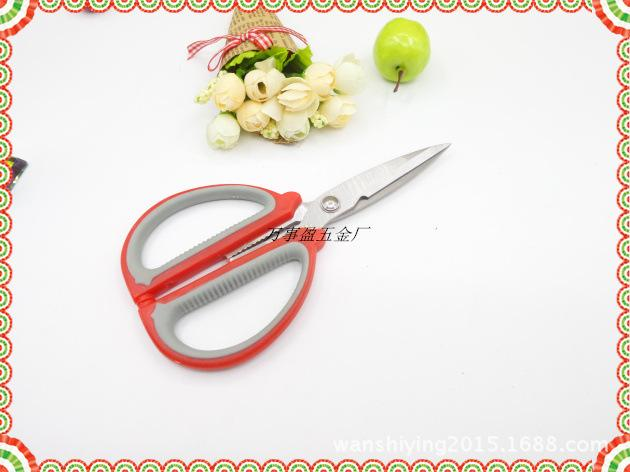scissor: (117, 139, 457, 372)
